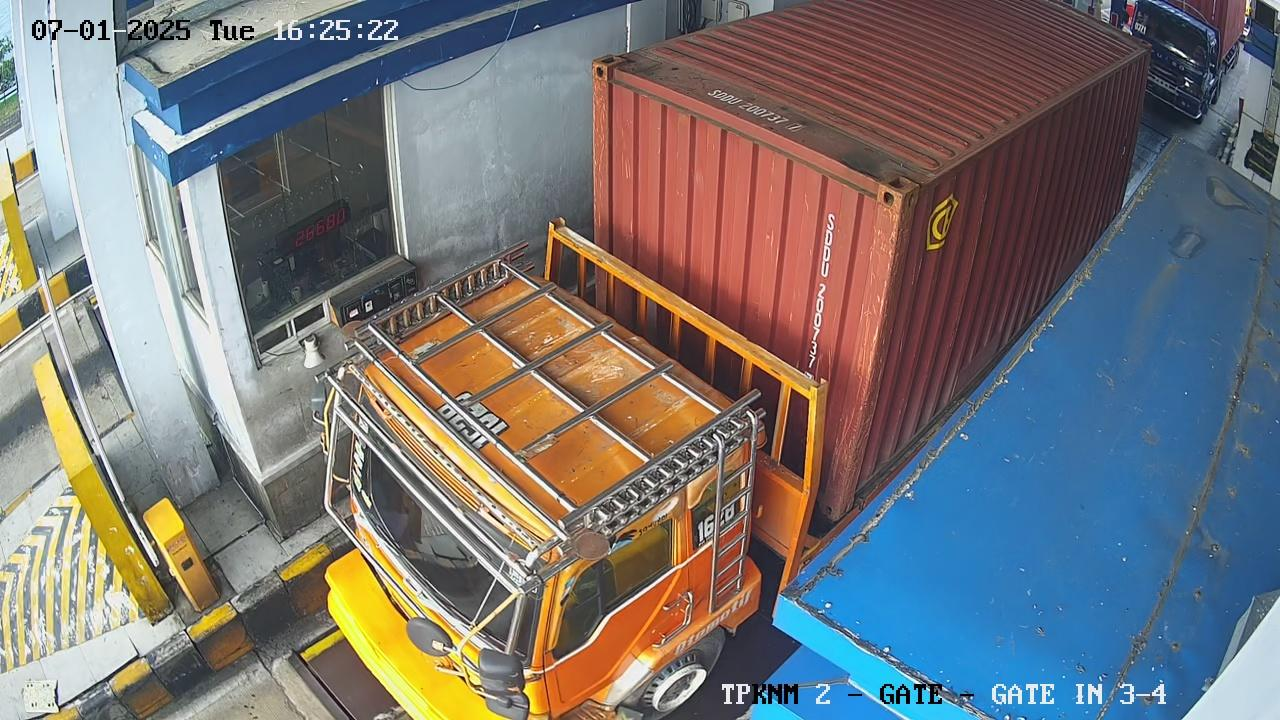Container_ID: (692, 77, 818, 141)
Container_ID_Vertikal: (796, 212, 837, 376)
truck_id: (719, 490, 749, 538)
